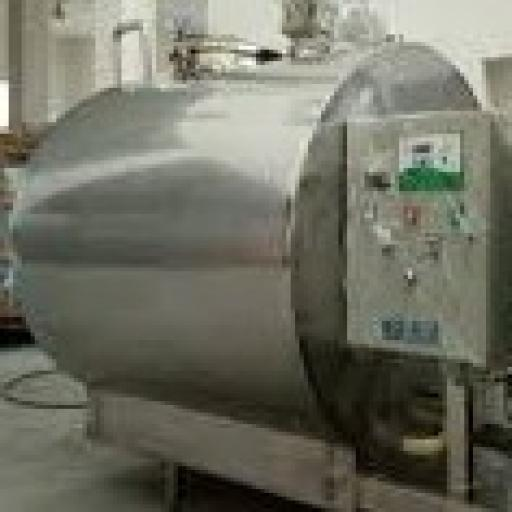silo: (13, 45, 485, 508)
